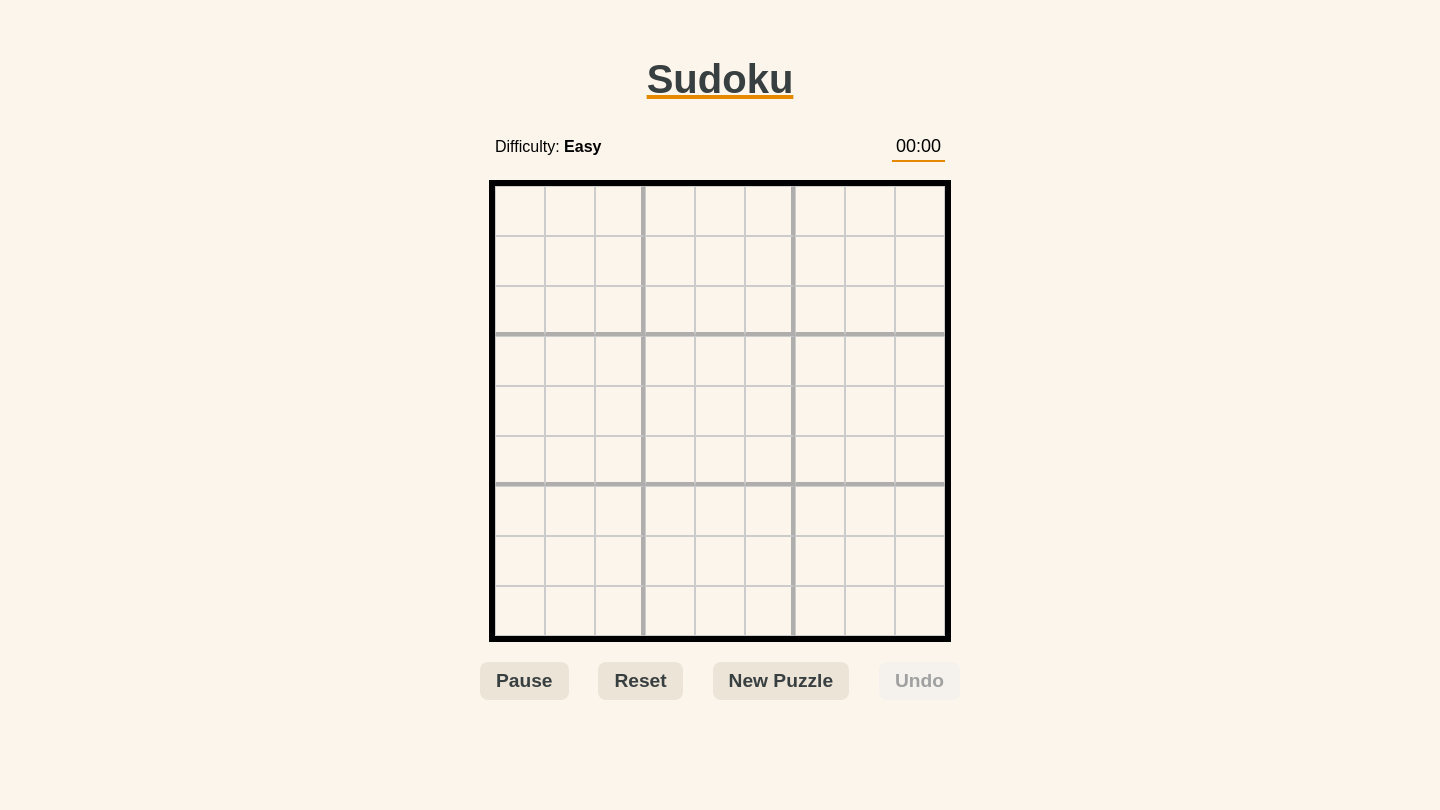
Test: App Component › shows reset modal on Reset button click
Click the button "Reset" at x=641, y=681, box [598, 662, 683, 700]
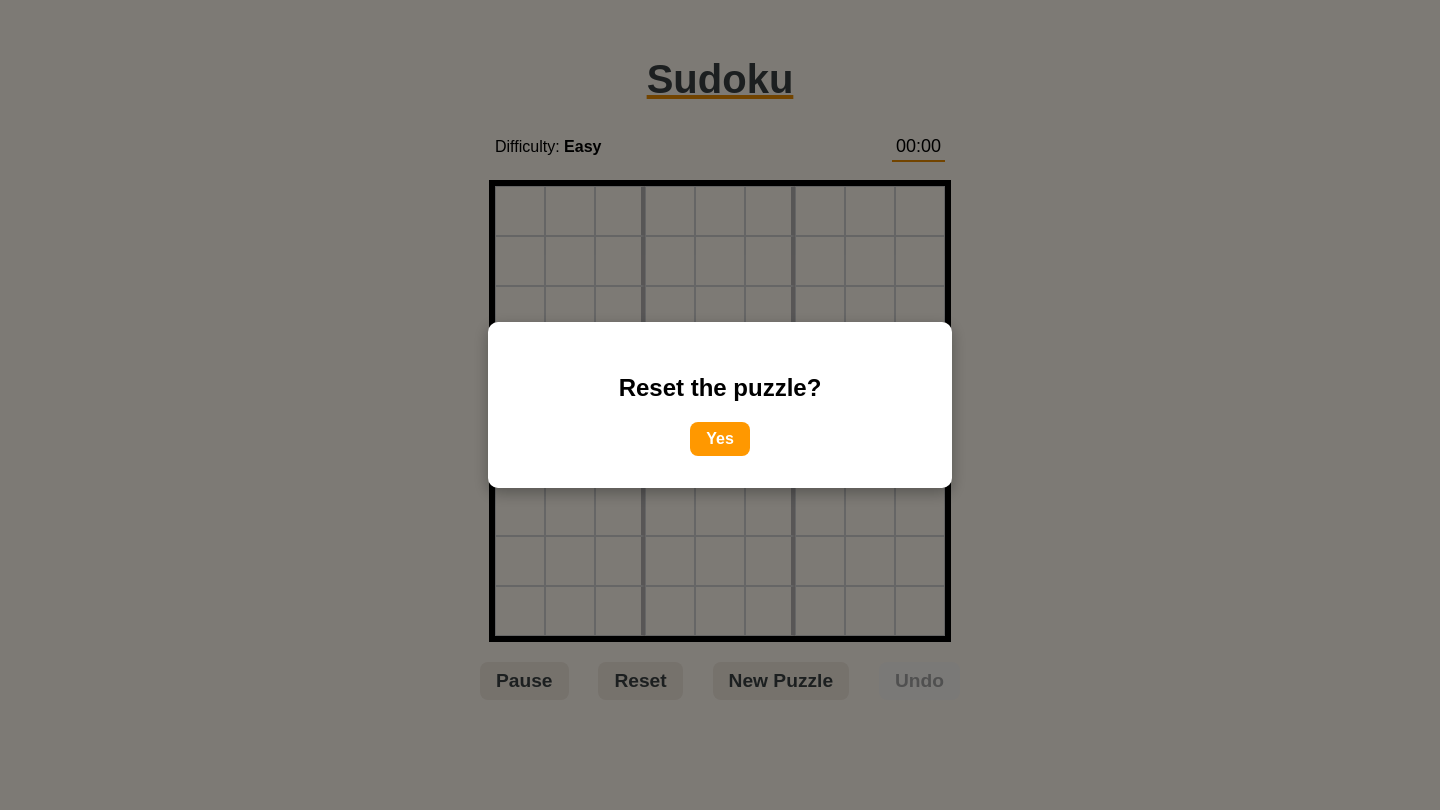
Result: the heading "Reset the puzzle?" is shown at [619, 374, 821, 401]
